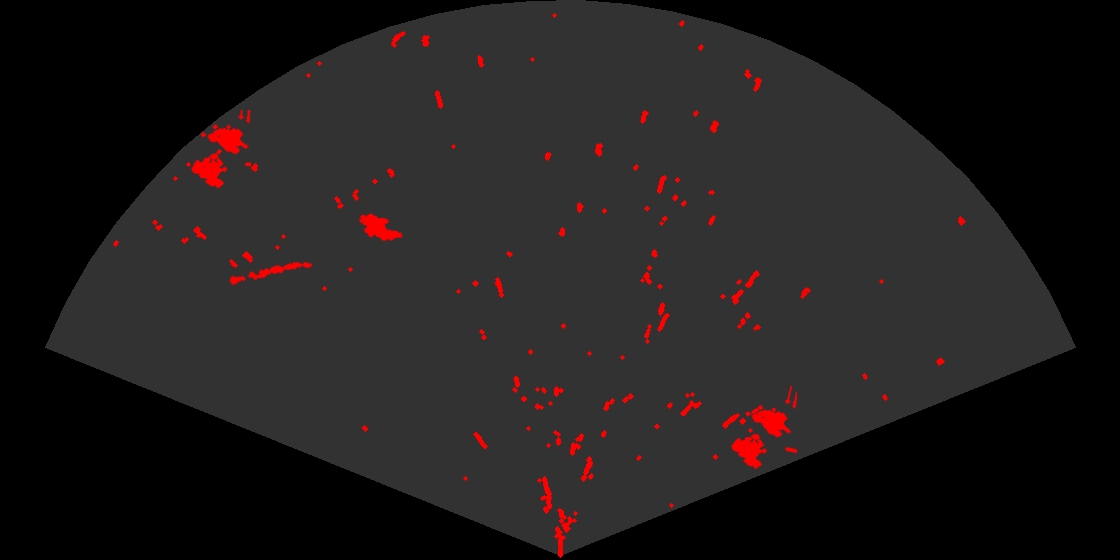AUV: (357, 212, 404, 243)
cage: (730, 386, 797, 471), (190, 110, 251, 190)
chain: (227, 260, 314, 287)
